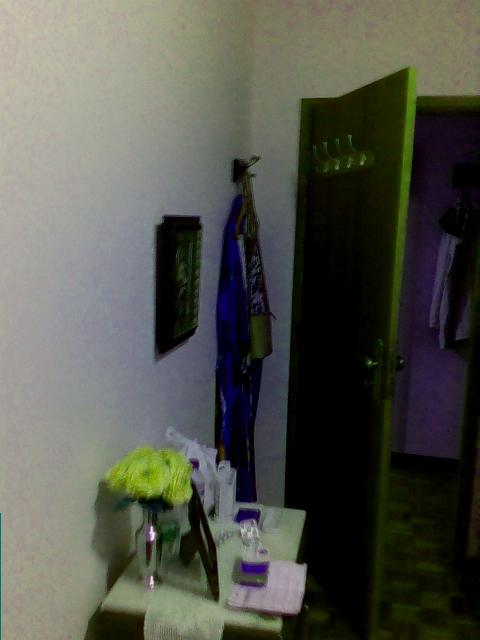semi_door: (282, 64, 479, 639)
